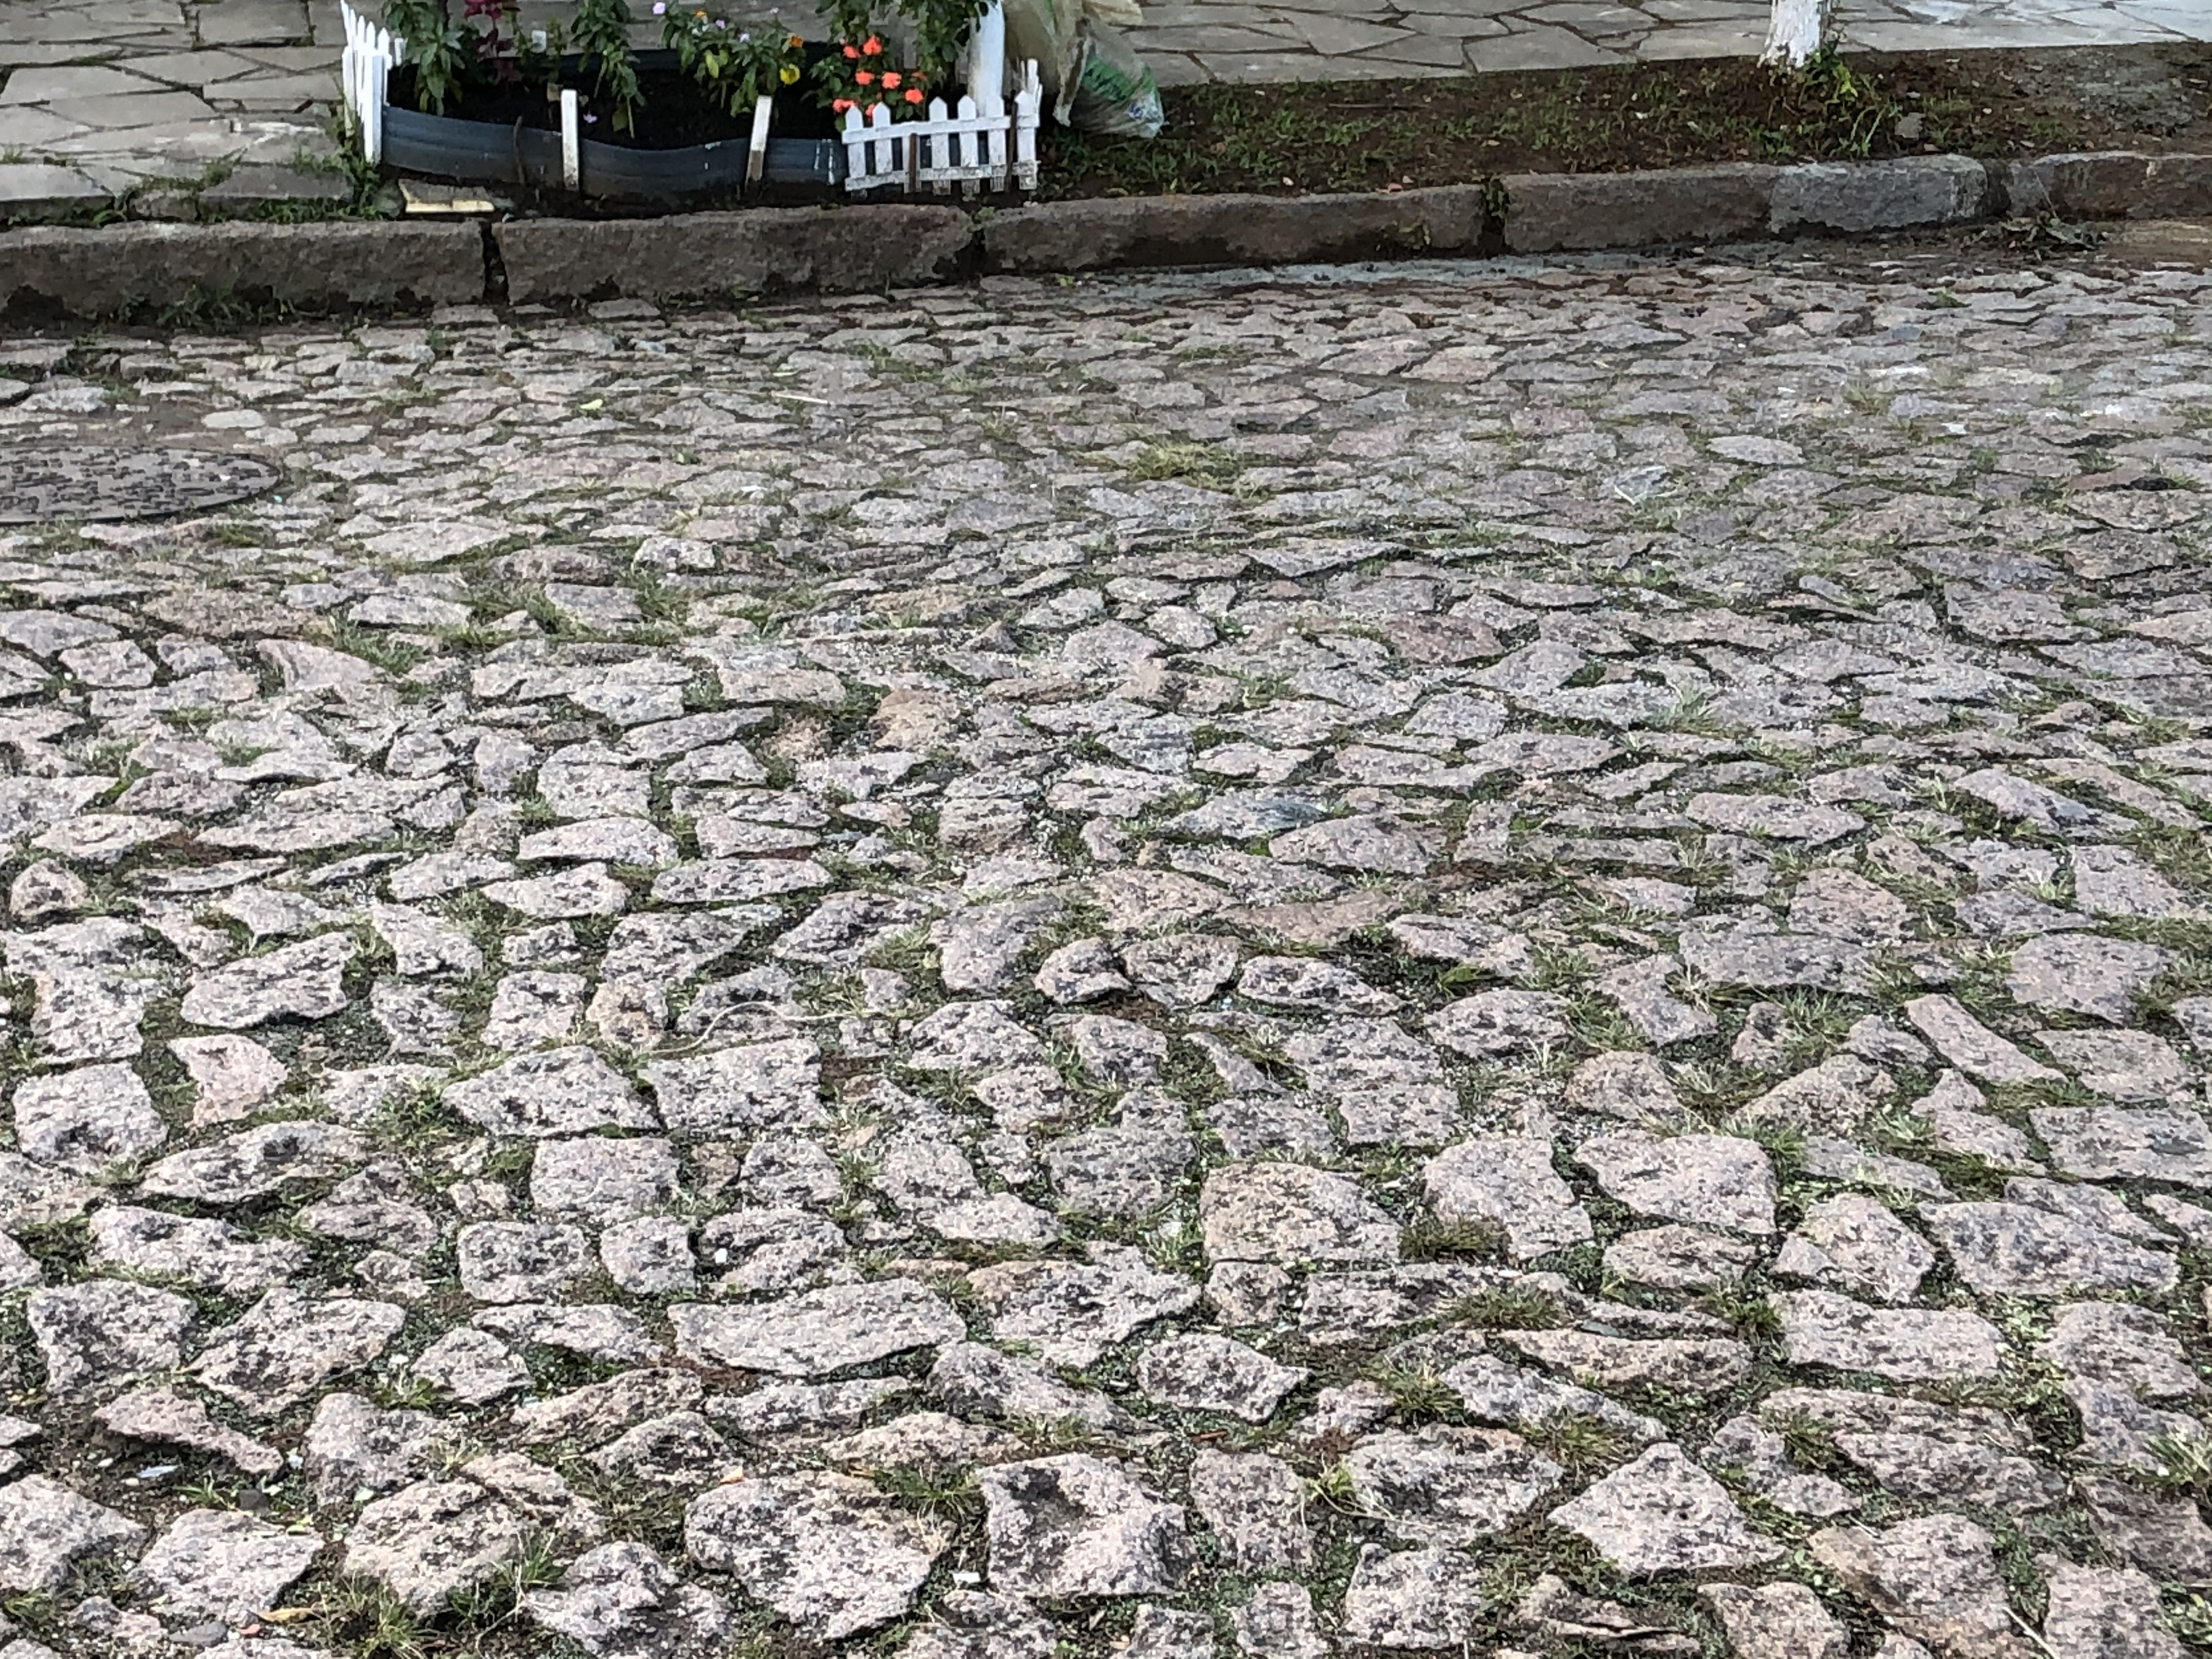vag34: (28, 0, 2212, 484)
